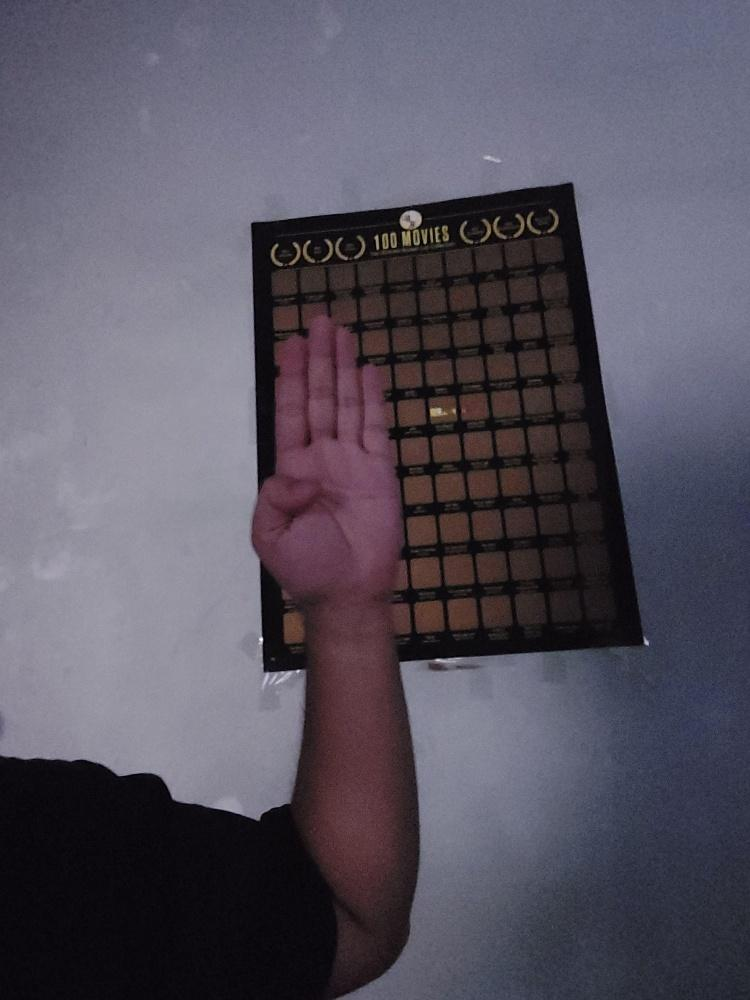b: (247, 310, 402, 601)
